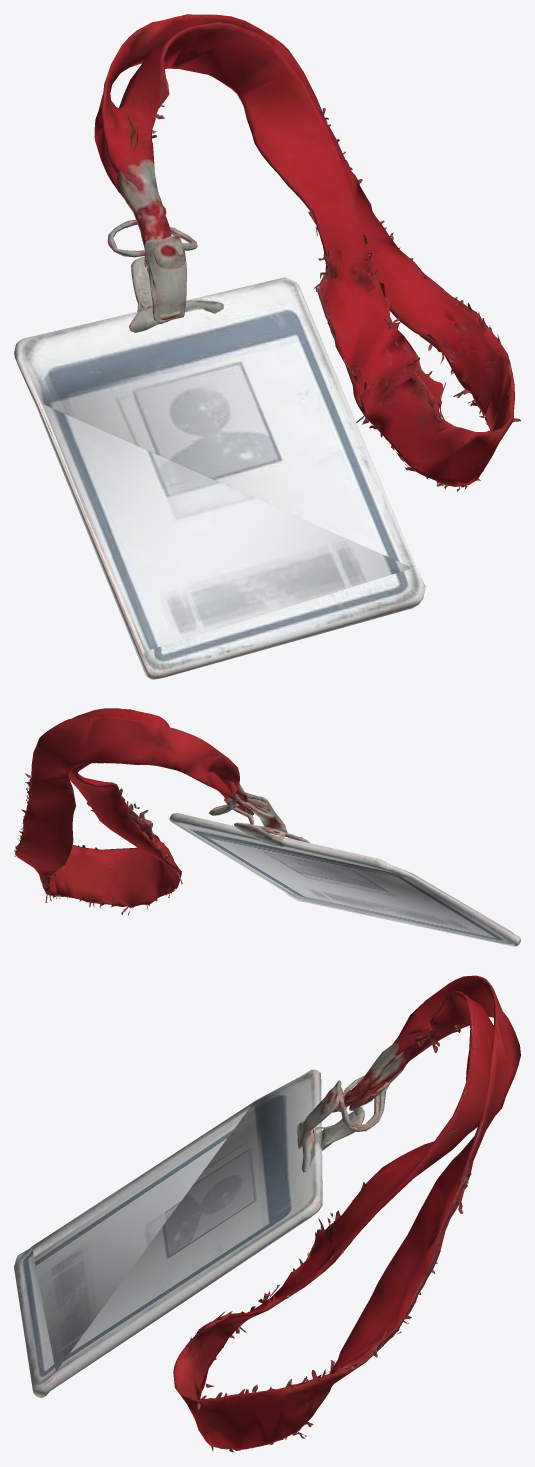
The model's file is keycard.glb.
3 renders of one model, top to bottom at view 1: azimuth 30°, elevation 25°; view 2: azimuth 150°, elevation 25°; view 3: azimuth 270°, elevation 25°, orthographic. The views are drawn at different scales.
Bounding box in the file's own units: 1 × 0.8102 × 0.932.
Materials: 1 (1 with a texture image).
